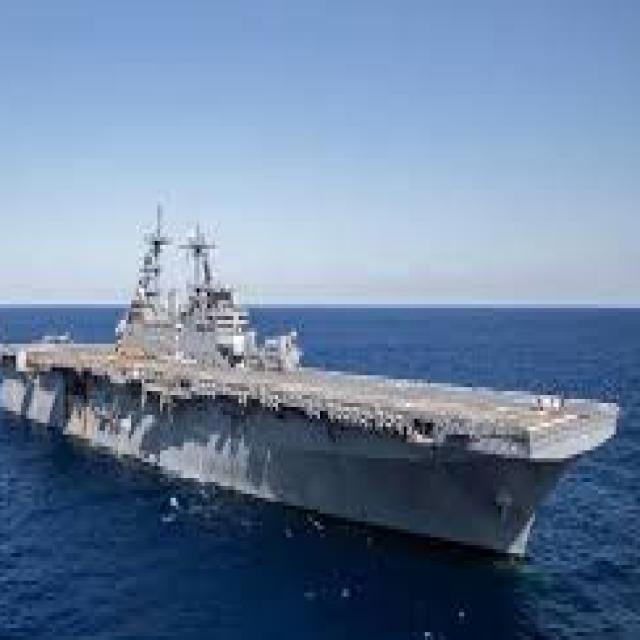navalvessels: (0, 122, 619, 588)
